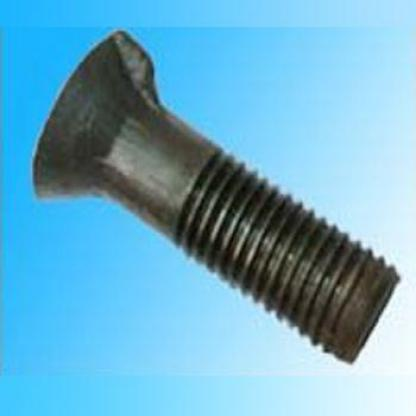FOD: (29, 25, 408, 369)
